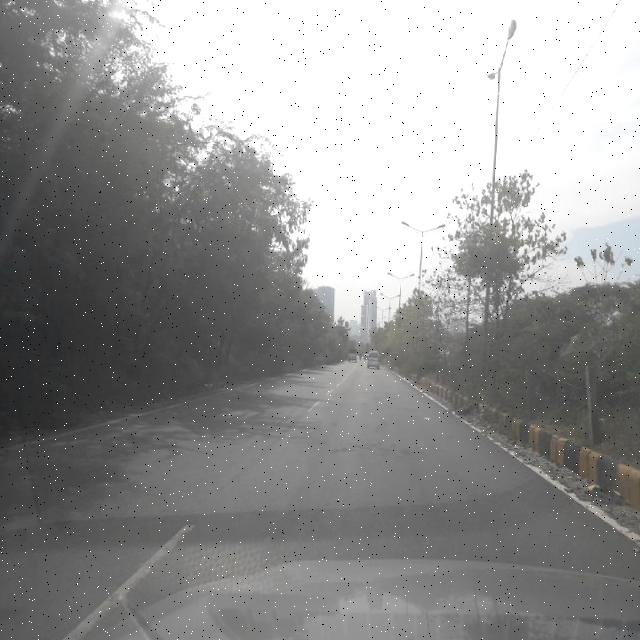D20: (321, 438, 427, 467)
